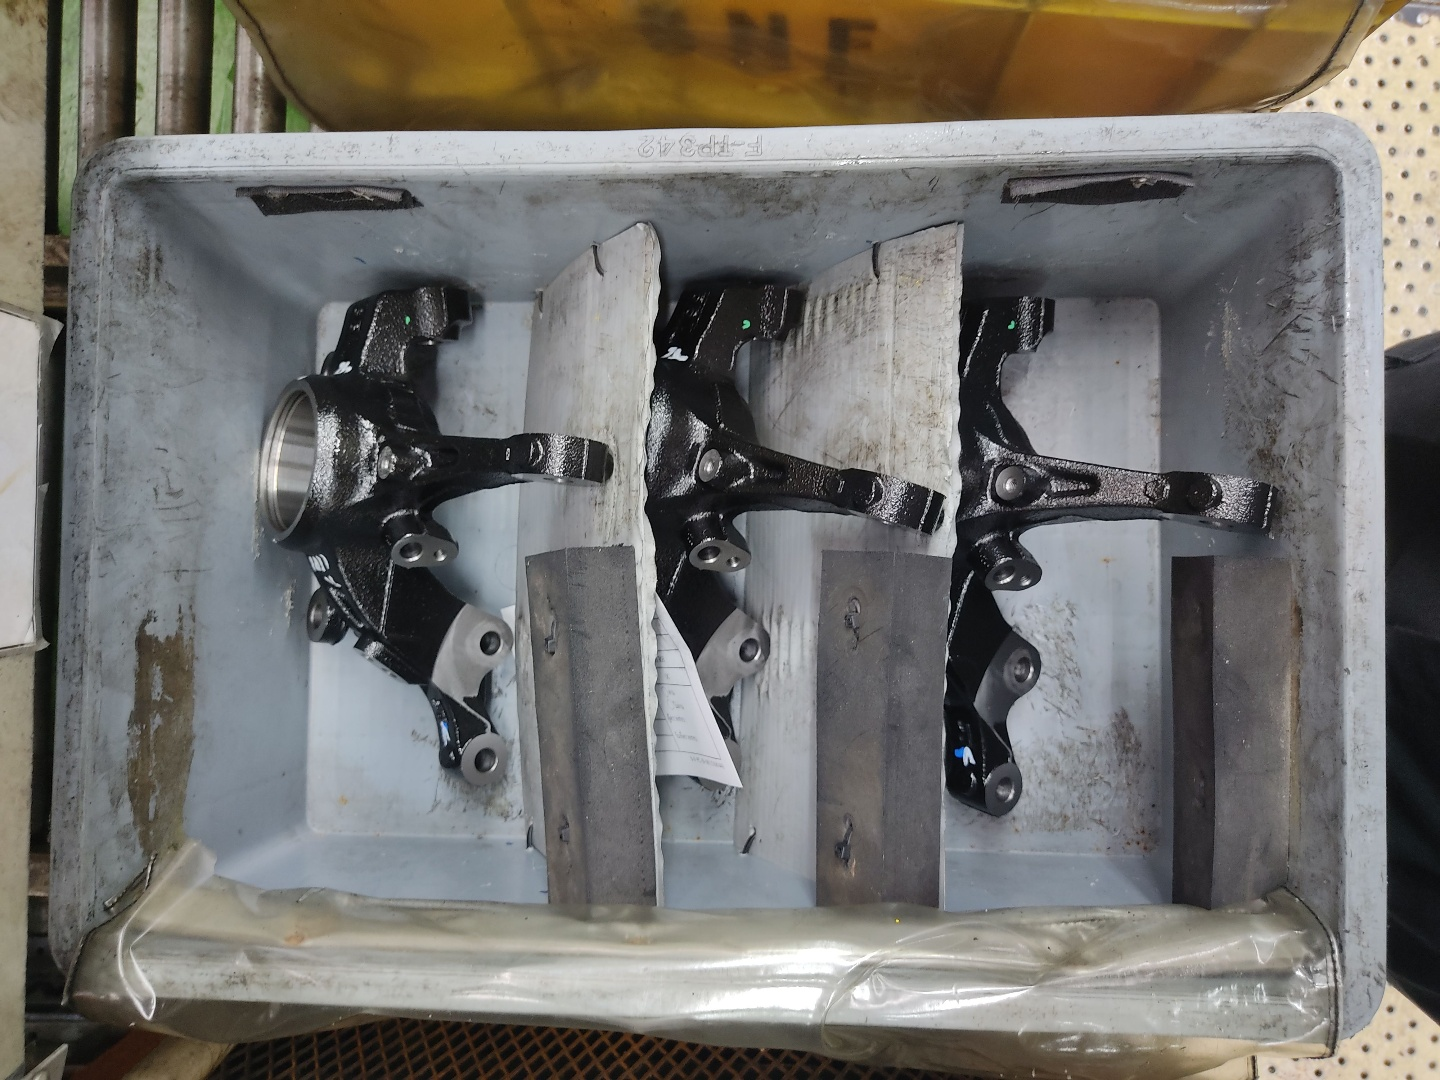abs-rh: (239, 263, 625, 810), (949, 285, 1281, 824), (633, 263, 950, 805)
